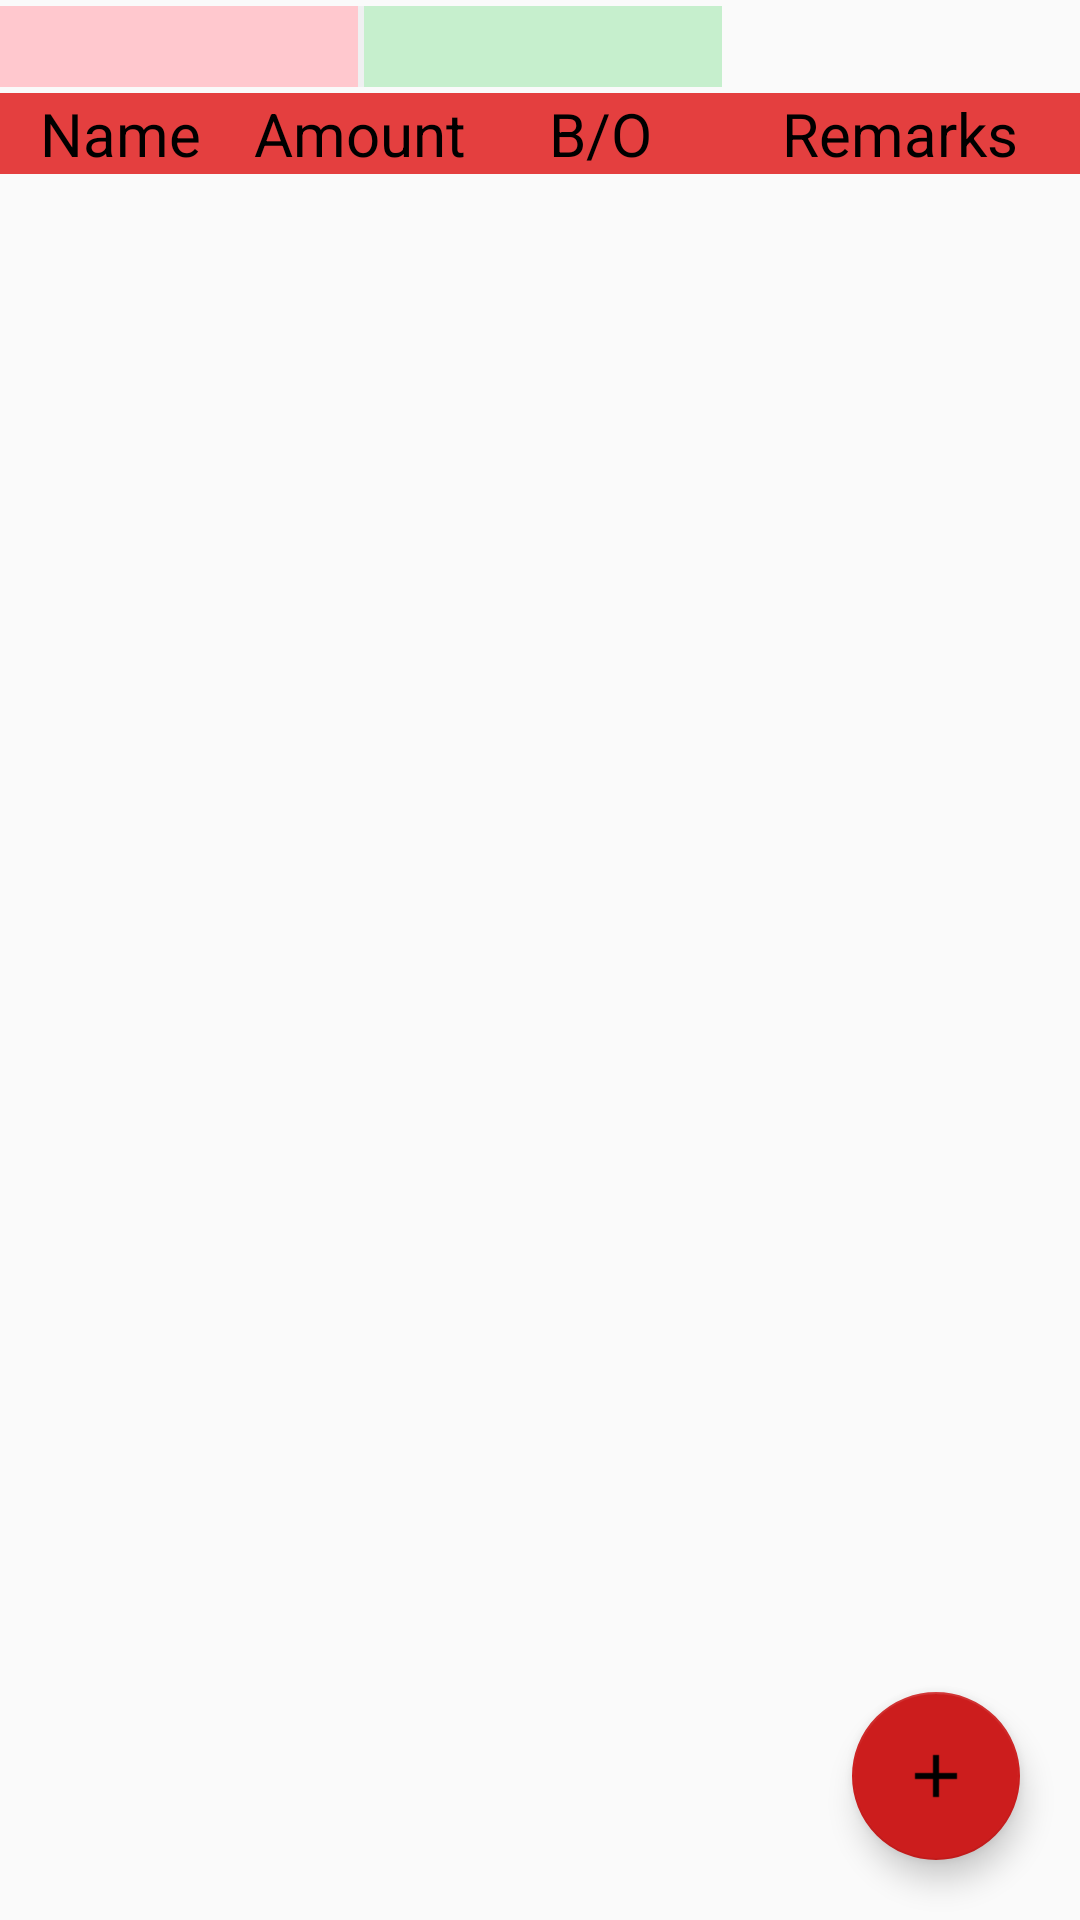

Icons on this 1080*1920 Android screen, each with its box as (x1, y1, x2, y2):
plus: (852, 1692, 1020, 1860)
